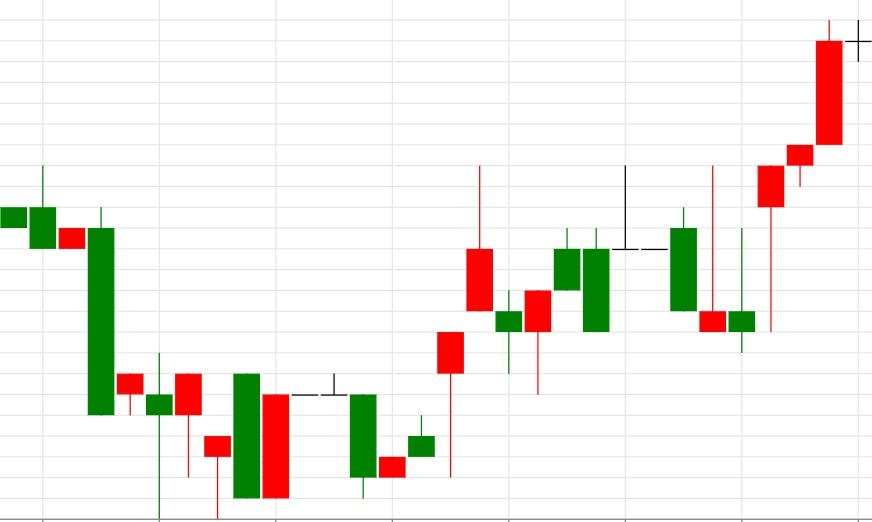hammer_rise: (28, 165, 232, 521)
inverse_hammer_rise: (611, 165, 727, 332)
